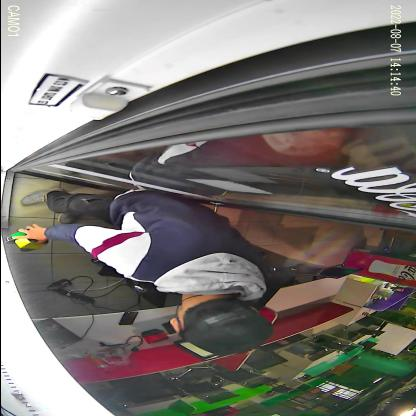green: (3, 229, 35, 244)
yellow: (11, 235, 47, 253)
